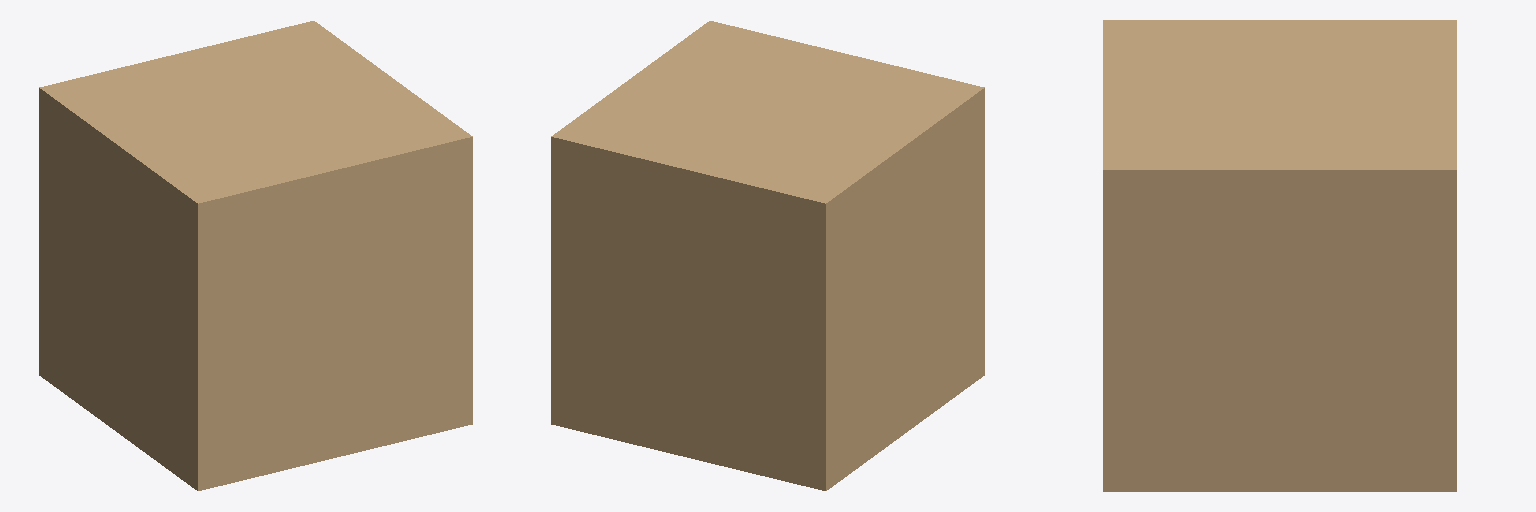
The robot description file, URDF, robot "box_foam":
<?xml version="1.0" ?>
<robot name = "box_foam">
  <material name="Black">
    <color rgba="0.0 0.0 0.0 1.0"/>
  </material>
  <material name="Blue">
    <color rgba="0.0 0.0 0.8 1.0"/>
  </material>
  <material name="Green">
    <color rgba="0.0 0.8 0.0 1.0"/>
  </material>
  <material name="Grey">
    <color rgba="0.4 0.4 0.4 1.0"/>
  </material>
  <material name="Orange">
    <color rgba="1.0 0.423529411765 0.0392156862745 1.0"/>
  </material>
  <material name="Brown">
    <color rgba="0.870588235294 0.811764705882 0.764705882353 1.0"/>
  </material>
  <material name="Tan">
    <color rgba="0.823 0.706 0.549 1.0"/>
  </material>
  <material name="Red">
    <color rgba="0.8 0.0 0.0 1.0"/>
  </material>
  <material name="White">
    <color rgba="1.0 1.0 1.0 1.0"/>
  </material>
	<link name = "box">
		<inertial>
			<origin xyz="0 0 0"/>
			<mass value="4.5"/>
            <!-- I = (5/18)*M*a^2 -->
			<inertia ixx="0.3226" ixy="0" ixz="0" iyy="0.3226" iyz="0" izz="0.3226"/>
		</inertial>
	<visual>
		<origin rpy="0 0 0" xyz="0 0 0"/>
		<geometry>
			<box size="0.508 0.508 0.508"/>
		</geometry>
		<material name="Tan"/>
  </visual>

        <!--collision box-->

        <visual>
            <origin rpy="0 0 0" xyz="0 0 0.0"/>
            <geometry>
                <box size="0.5 0.5 0.5"/>
            </geometry>
        </visual>

	<collision>
		<origin rpy="0 0 0" xyz="0 0 0.0"/>
		<geometry>
			<box size="0.5 0.5 0.5"/>
		</geometry>
        <drake_compliance>
            <youngs_modulus>3e7</youngs_modulus>
            <dissipation>5</dissipation>
            <static_friction>0.5</static_friction>
            <dynamic_friction>0.2</dynamic_friction>
        </drake_compliance>
  </collision>

        <!--collision box-->

    <visual>
        <origin xyz="-0.25 -0.25 -0.25" rpy="0 0 0"/>
        <geometry>
            <sphere radius="1e-3"/>
        </geometry>
    </visual>
  <collision>
    <origin xyz="-0.25 -0.25 -0.25" rpy="0 0 0"/>
    <geometry>
      <sphere radius="1e-3"/>
    </geometry>
      <drake_compliance>
          <youngs_modulus>3e7</youngs_modulus>
          <dissipation>5</dissipation>
          <static_friction>0.5</static_friction>
          <dynamic_friction>0.2</dynamic_friction>
      </drake_compliance>
  </collision>

        <visual>
            <origin xyz="-0.25 0.25 -0.25" rpy="0 0 0"/>
            <geometry>
                <sphere radius="1e-3"/>
            </geometry>
        </visual>
  <collision>
    <origin xyz="-0.25 0.25 -0.25" rpy="0 0 0"/>
    <geometry>
      <sphere radius="1e-3"/>
    </geometry>
      <drake_compliance>
          <youngs_modulus>3e7</youngs_modulus>
          <dissipation>5</dissipation>
          <static_friction>0.5</static_friction>
          <dynamic_friction>0.2</dynamic_friction>
      </drake_compliance>
  </collision>


        <visual>
            <origin xyz="0.25 -0.25 -0.25" rpy="0 0 0"/>
            <geometry>
                <sphere radius="1e-3"/>
            </geometry>
        </visual>

  <collision>
    <origin xyz="0.25 -0.25 -0.25" rpy="0 0 0"/>
    <geometry>
      <sphere radius="1e-3"/>
    </geometry>
      <drake_compliance>
          <youngs_modulus>3e7</youngs_modulus>
          <dissipation>5</dissipation>
          <static_friction>0.5</static_friction>
          <dynamic_friction>0.2</dynamic_friction>
      </drake_compliance>
  </collision>

  <visual>
    <origin xyz="0.25 0.25 -0.25" rpy="0 0 0"/>
    <geometry>
        <sphere radius="1e-3"/>
    </geometry>
  </visual>
  <collision>
    <origin xyz="0.25 0.25 -0.25" rpy="0 0 0"/>
    <geometry>
      <sphere radius="1e-3"/>
    </geometry>
      <drake_compliance>
          <youngs_modulus>3e7</youngs_modulus>
          <dissipation>5</dissipation>
          <static_friction>0.5</static_friction>
          <dynamic_friction>0.2</dynamic_friction>
      </drake_compliance>
  </collision>

<!--separator-->
        <visual>
            <origin xyz="0.25 0.25 0.25" rpy="0 0 0"/>
            <geometry>
                <sphere radius="1e-3"/>
            </geometry>
        </visual>
        <collision>
            <origin xyz="0.25 0.25 0.25" rpy="0 0 0"/>
            <geometry>
                <sphere radius="1e-3"/>
            </geometry>
            <drake_compliance>
                <youngs_modulus>3e7</youngs_modulus>
                <dissipation>5</dissipation>
                <static_friction>0.5</static_friction>
                <dynamic_friction>0.2</dynamic_friction>
            </drake_compliance>
        </collision>

        <visual>
            <origin xyz="0.25 -0.25 0.25" rpy="0 0 0"/>
            <geometry>
                <sphere radius="1e-3"/>
            </geometry>
        </visual>
        <collision>
            <origin xyz="0.25 -0.25 0.25" rpy="0 0 0"/>
            <geometry>
                <sphere radius="1e-3"/>
            </geometry>
            <drake_compliance>
                <youngs_modulus>3e7</youngs_modulus>
                <dissipation>5</dissipation>
                <static_friction>0.5</static_friction>
                <dynamic_friction>0.2</dynamic_friction>
            </drake_compliance>
        </collision>

        <visual>
            <origin xyz="-0.25 -0.25 0.25" rpy="0 0 0"/>
            <geometry>
                <sphere radius="1e-3"/>
            </geometry>
        </visual>
        <collision>
            <origin xyz="-0.25 -0.25 0.25" rpy="0 0 0"/>
            <geometry>
                <sphere radius="1e-3"/>
            </geometry>
            <drake_compliance>
                <youngs_modulus>3e7</youngs_modulus>
                <dissipation>5</dissipation>
                <static_friction>0.5</static_friction>
                <dynamic_friction>0.2</dynamic_friction>
            </drake_compliance>
        </collision>

        <visual>
            <origin xyz="-0.25 0.25 0.25" rpy="0 0 0"/>
            <geometry>
                <sphere radius="1e-3"/>
            </geometry>
        </visual>
        <collision>
            <origin xyz="-0.25 0.25 0.25" rpy="0 0 0"/>
            <geometry>
                <sphere radius="1e-3"/>
            </geometry>
            <drake_compliance>
                <youngs_modulus>3e7</youngs_modulus>
                <dissipation>5</dissipation>
                <static_friction>0.5</static_friction>
                <dynamic_friction>0.2</dynamic_friction>
            </drake_compliance>
        </collision>

	</link>
</robot>

--- Facts derived from the render (not from the file) ---
3 views of the same robot in one strip: view 1: azimuth 30°, elevation 25°; view 2: azimuth 150°, elevation 25°; view 3: azimuth 270°, elevation 25° (orthographic).
Model box_foam with 1 links and 0 joints (none), rooted at box, posed every joint at zero.
Visible links, largest first — view 1: box; view 2: box; view 3: box.
Boxes of the visible links, box(x1,y1,x2,y2) form: box: box(39, 21, 472, 490); box: box(551, 21, 984, 490); box: box(1103, 20, 1456, 491).
Bounding box of the posed robot: 0.508 × 0.508 × 0.508 m (x, y, z).
Geometry: primitives only (box / cylinder / sphere), no mesh files.
